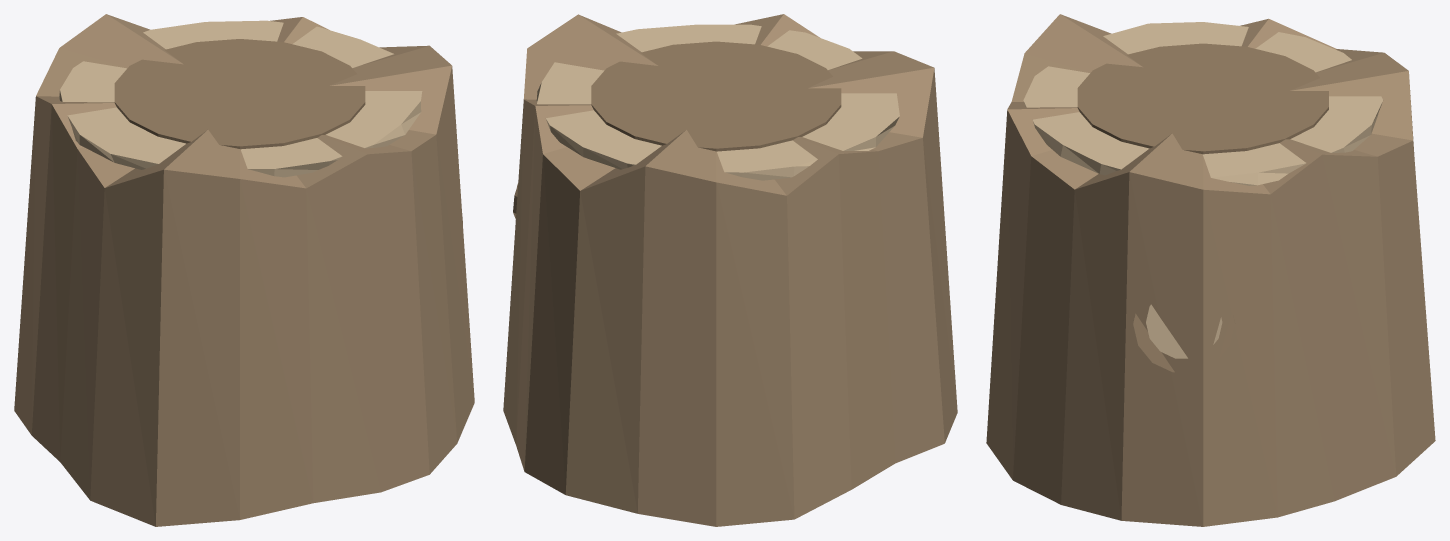
Rendered from temp_stump.glb.
3 views of the same model, side by side, from view 1: azimuth 30°, elevation 25°; view 2: azimuth 150°, elevation 25°; view 3: azimuth 270°, elevation 25° (orthographic).
Parts seen in each view (by area): view 1: StumpBody, GrowthRingInner, CutTop; view 2: StumpBody, GrowthRingInner, CutTop; view 3: StumpBody, GrowthRingInner, CutTop, BranchNubCut, BranchNub.
Part boxes in pixels (<box>): StumpBody: <box>14,14,474,526</box>; GrowthRingInner: <box>114,39,365,149</box>; CutTop: <box>59,20,422,177</box>; StumpBody: <box>503,14,957,526</box>; GrowthRingInner: <box>591,41,841,151</box>; CutTop: <box>536,24,899,180</box>; StumpBody: <box>986,14,1435,526</box>; GrowthRingInner: <box>1077,43,1328,154</box>; CutTop: <box>1023,22,1382,185</box>; BranchNubCut: <box>1146,304,1222,358</box>; BranchNub: <box>1133,311,1235,372</box>.
Size of the model in its own units: 0.7251 by 0.6034 by 0.7039.
